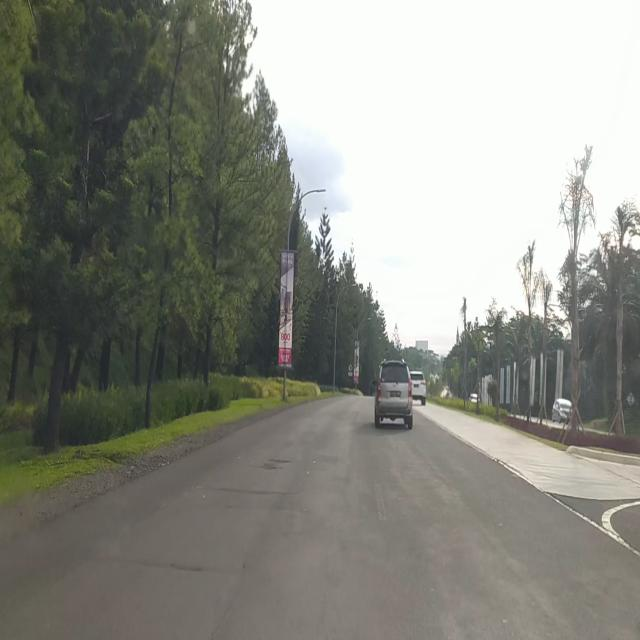Sewer Cover: (95, 561, 251, 570), (186, 485, 297, 493)
